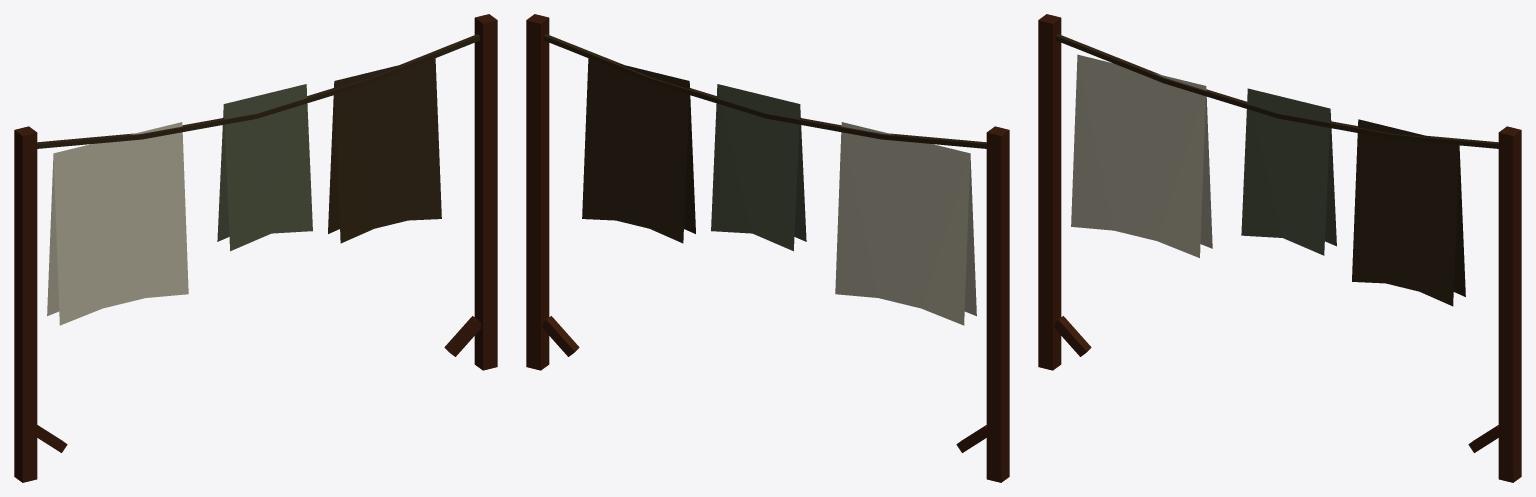
File: SM_Clothesline.fbx
3 renders of one model, left to right at view 1: azimuth 30°, elevation 25°; view 2: azimuth 150°, elevation 25°; view 3: azimuth 330°, elevation 25°, orthographic.
Parts seen in each view (by area): view 1: SM_Clothesline; view 2: SM_Clothesline; view 3: SM_Clothesline.
Part boxes in pixels (x1,y1,x2,y2): SM_Clothesline: [14, 14, 497, 482]; SM_Clothesline: [526, 14, 1009, 482]; SM_Clothesline: [1038, 14, 1521, 482].
Bounding box in the file's own units: 258 × 180 × 12.
